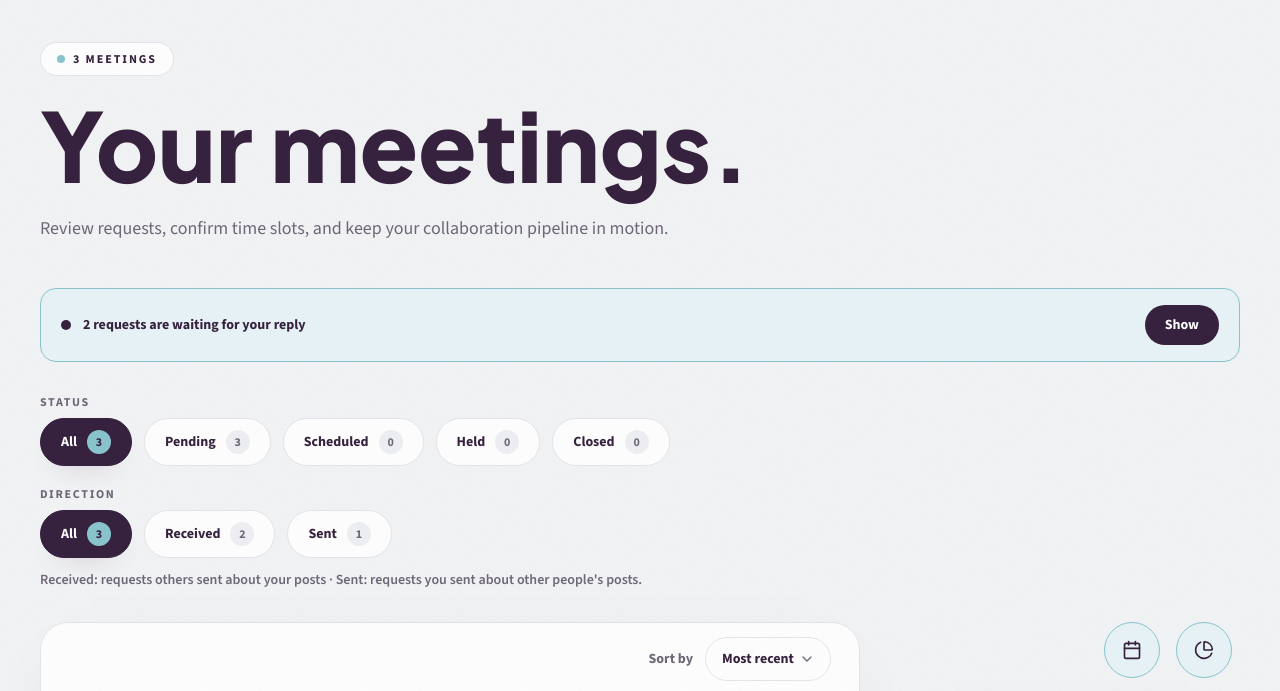
Scenario: MeetingsPage › offers a shortcut to the requests waiting for the user's reply
Expected: the text "2 requests are waiting for your reply" is shown, 61,315 -> 306,335
Step 1. Click the button "Show" → x=1182, y=325, box 1145,305 -> 1219,345
(page scrolled)
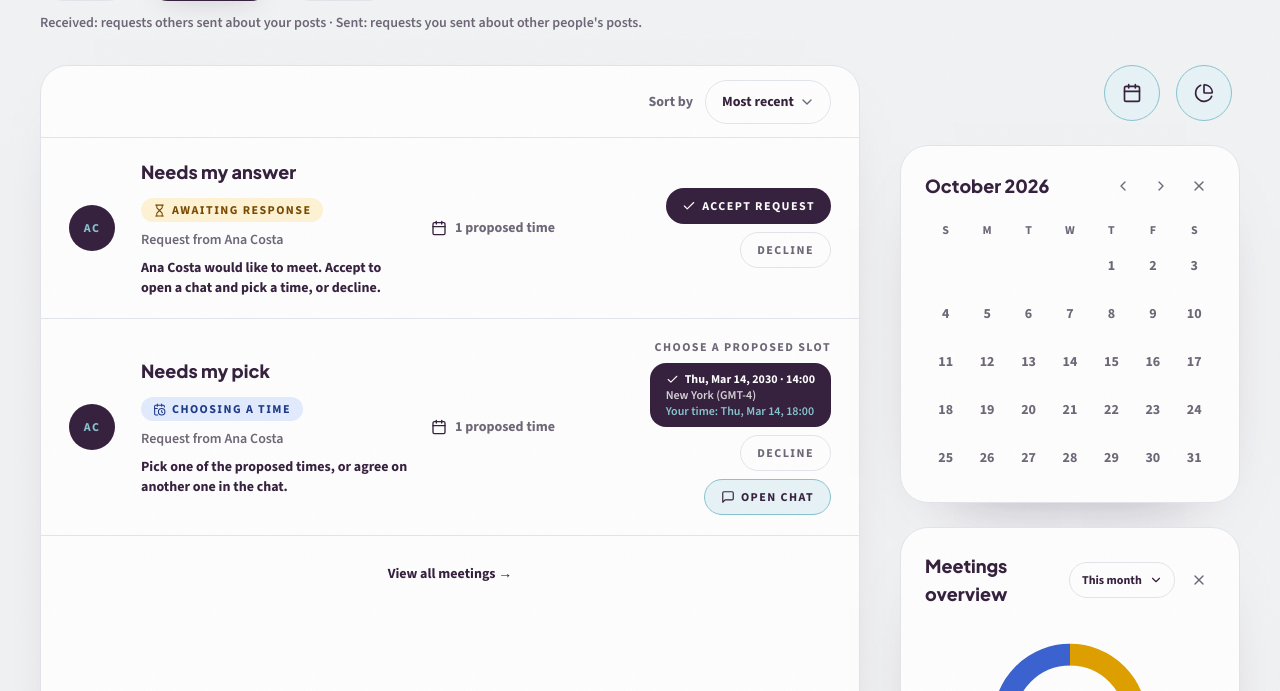
Expected: the link "Needs my answer" is shown, 141,160 -> 296,183
Expected: the button "Show" is gone
